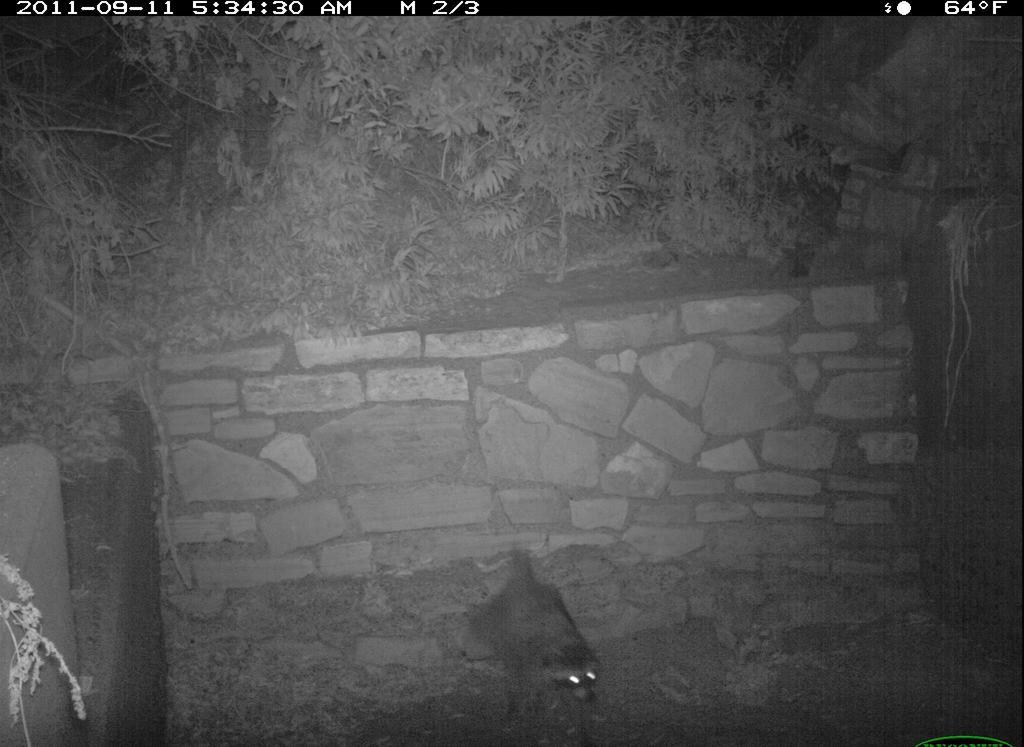raccoon: (466, 510, 616, 725)
